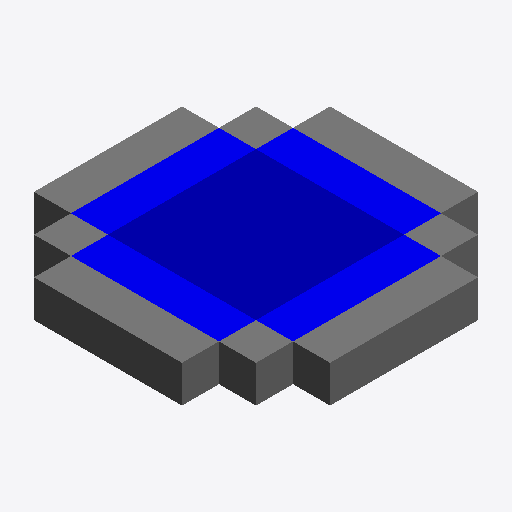
A Minecraft block model of 11 cuboids, rendered isometrically (azimuth 45°, elevation 35.3°) with the resource pack's own textures.
Visible parts, largest first — Gem1, Stone5, Stone7, Stone1, Stone3, Gem2, Gem3, Stone6, Stone4, Stone8, Stone2.
Boxes of the visible parts, box(x1,y1,x2,y2) form: Gem1: box(72, 128, 440, 340); Stone5: box(293, 256, 477, 404); Stone7: box(34, 256, 218, 404); Stone1: box(34, 107, 217, 233); Stone3: box(294, 107, 477, 233); Gem2: box(71, 128, 254, 233); Gem3: box(257, 235, 439, 340); Stone6: box(219, 320, 292, 404); Stone4: box(404, 214, 477, 276); Stone8: box(34, 214, 107, 276); Stone2: box(220, 107, 291, 148).
Bounding box in the file's own units: 8 × 1 × 8.